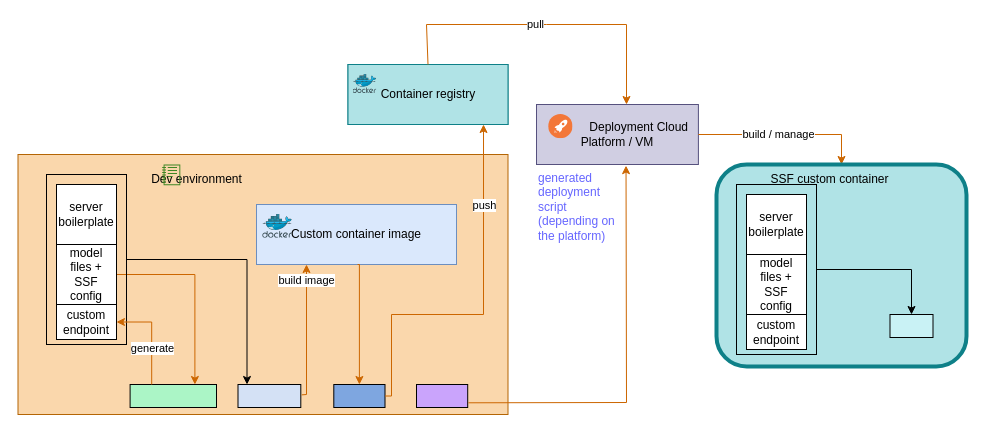
Some shapes in this 985 by 432 pixel diagram are drawn without their labels. The shapes that lost their labels are listed below. From the top down, each one's centre as x and y in pixels, then its label:
At pixel 911 326: "run".
At pixel 172 396: "build".
At pixel 269 396: "package".
At pixel 359 396: "publish".
At pixel 442 396: "deploy".
